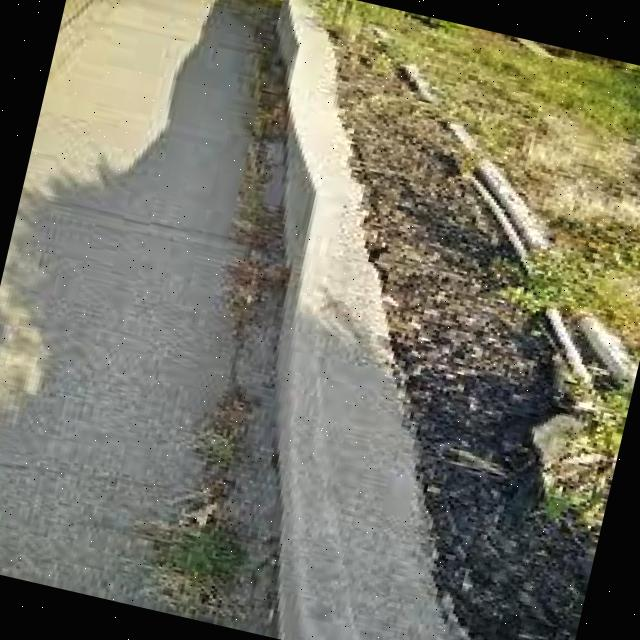curb: (207, 186, 442, 475), (239, 433, 480, 640), (225, 1, 372, 178)
